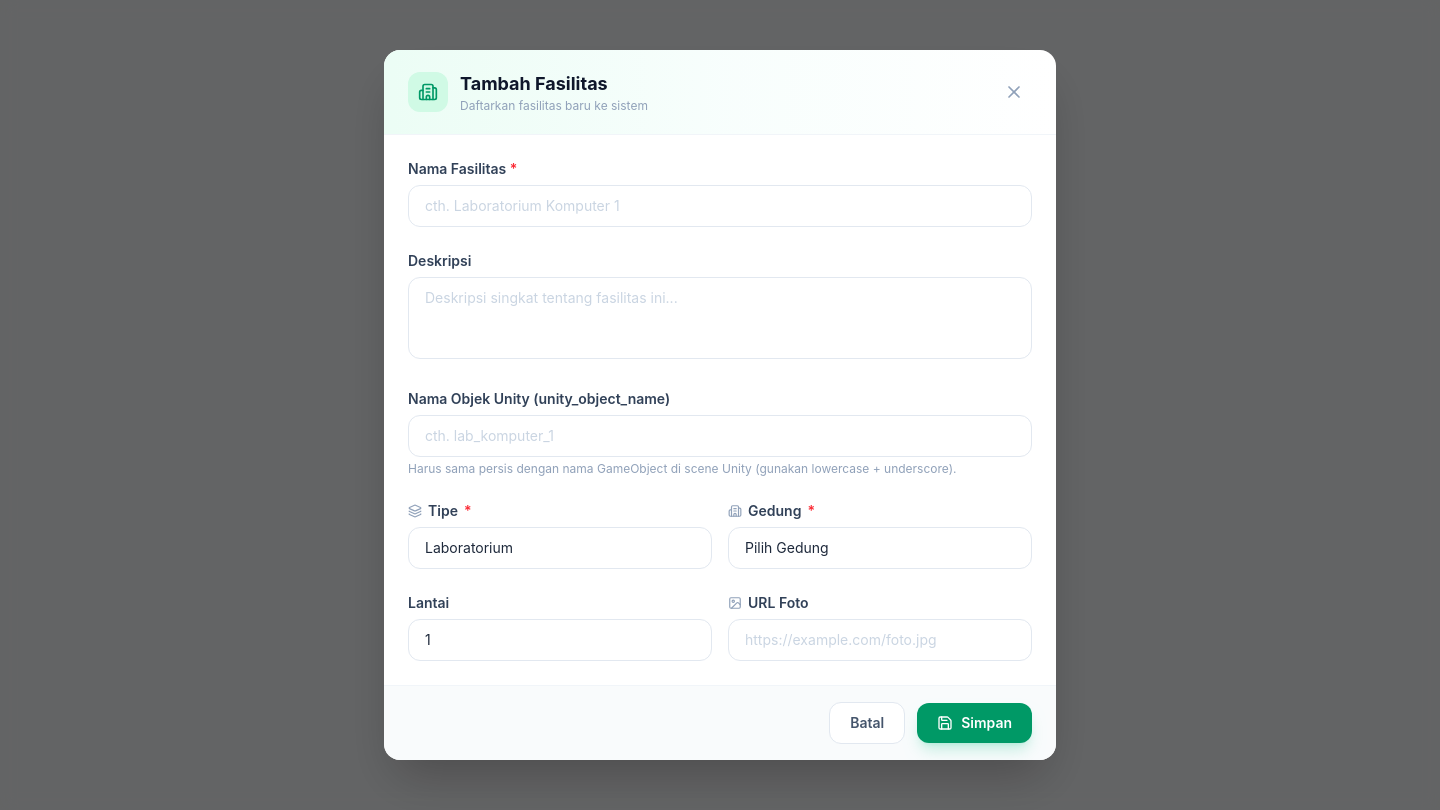
Scenario: CRUD modal required-field validation › menampilkan warning nama fasilitas dan gedung secara bersamaan
Click the button "Simpan".
click(975, 723)  # box [917,703,1032,743]
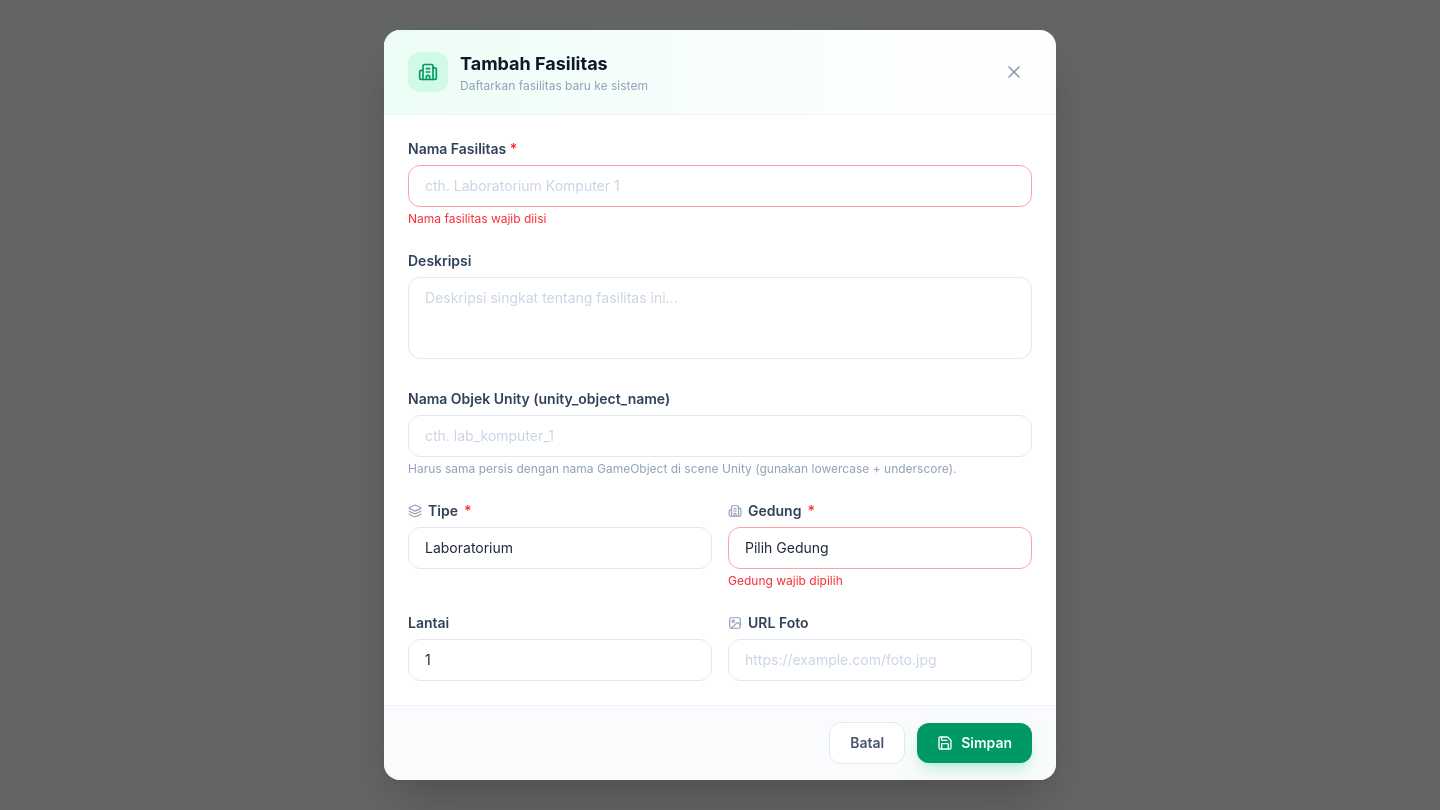
Expected: the text "Nama fasilitas wajib diisi" is shown, [408,211,546,226]
Expected: the text "Gedung wajib dipilih" is shown, [728,573,843,588]
Type "Laboratorium Komputer" into the field labelled "Nama Fasilitas *".
click(720, 186); type("Laboratorium Komputer")  # box [408,165,1032,207]
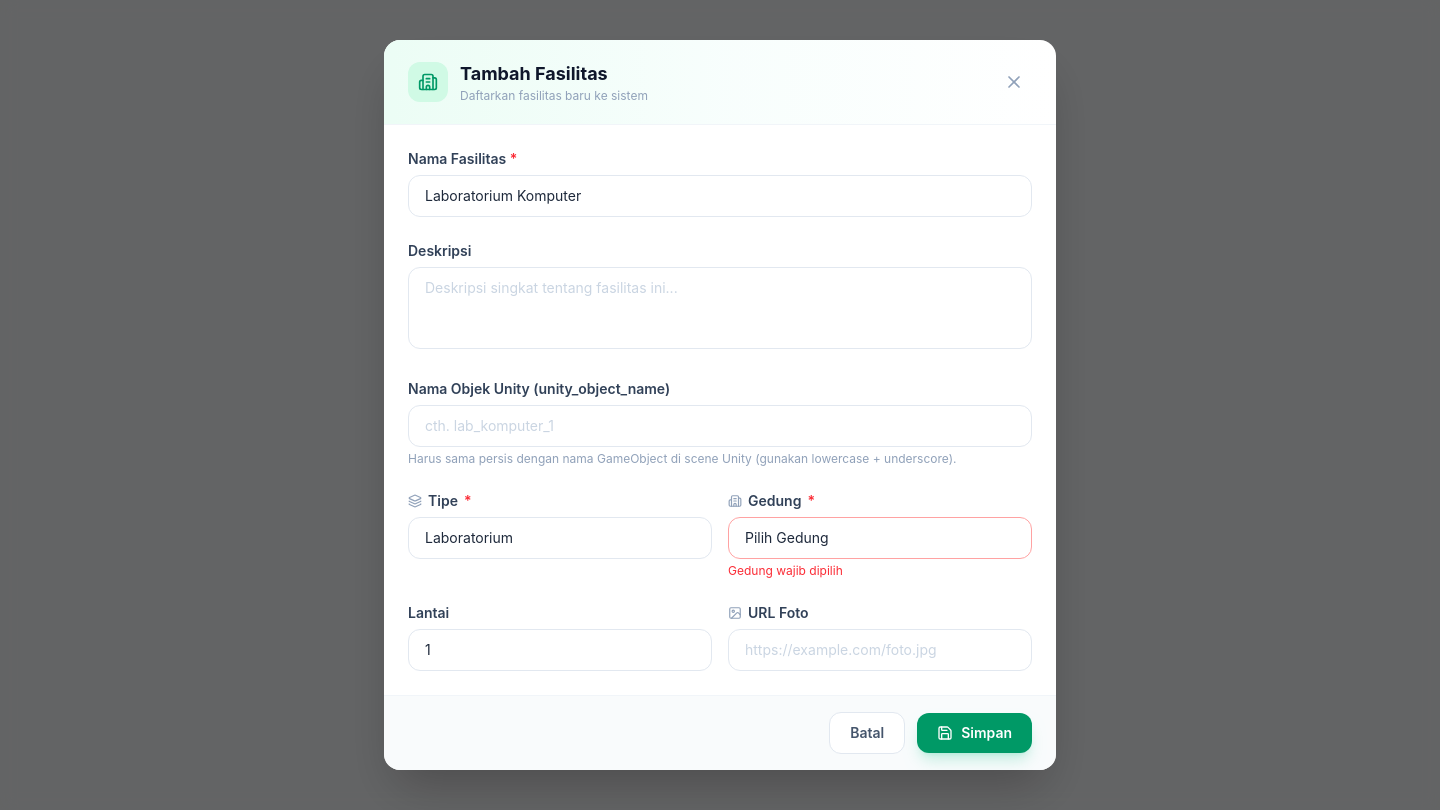
Expected: the text "Nama fasilitas wajib diisi" is gone
